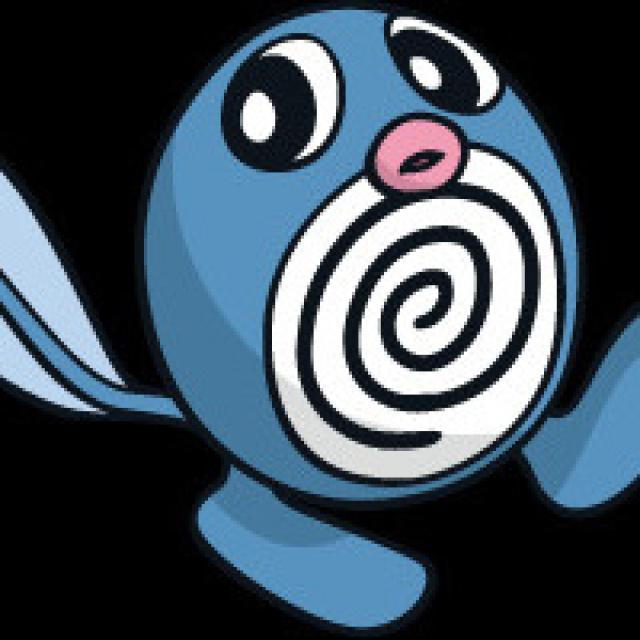Poliwag: (125, 16, 596, 596)
